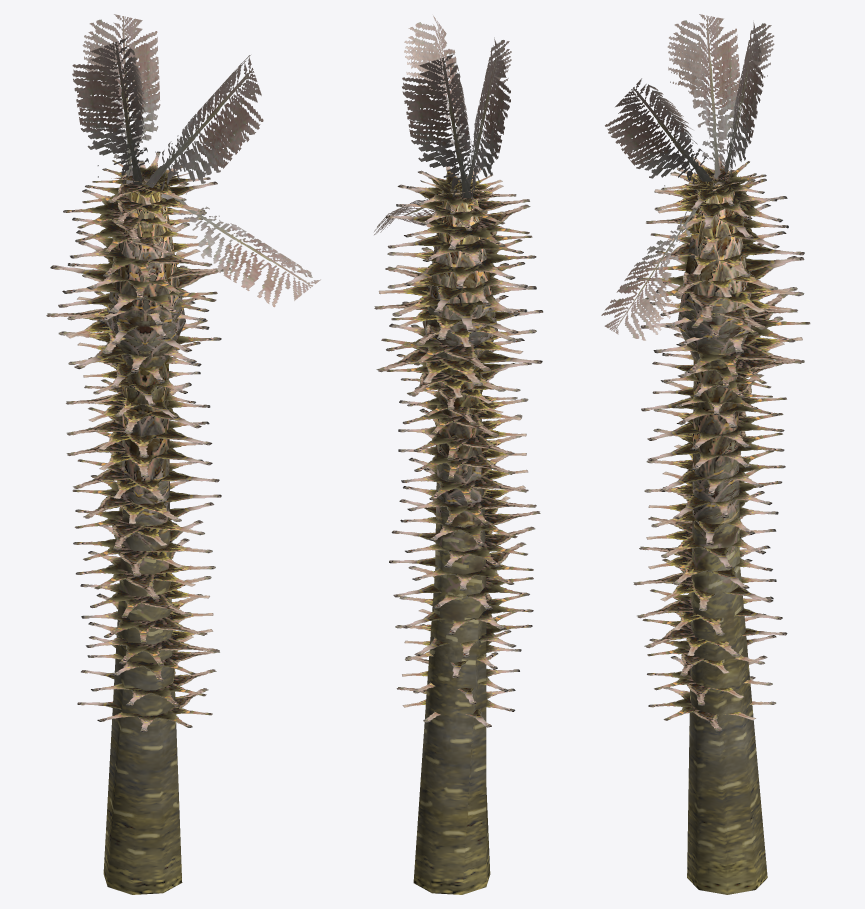
File: palm_dead_5.glb
3 views of the same model, side by side, from view 1: azimuth 30°, elevation 25°; view 2: azimuth 150°, elevation 25°; view 3: azimuth 270°, elevation 25° (orthographic). The views are drawn at different scales.
Parts seen in each view (by area): view 1: palm_dead_5; view 2: palm_dead_5; view 3: palm_dead_5.
Boxes of the visible parts, bbox=[...] form: palm_dead_5: bbox=[46, 14, 320, 894]; palm_dead_5: bbox=[374, 15, 543, 894]; palm_dead_5: bbox=[601, 14, 810, 894].
Bounding box in the file's own units: 3.35 × 11.59 × 3.13.
1 material, 1 textured.
